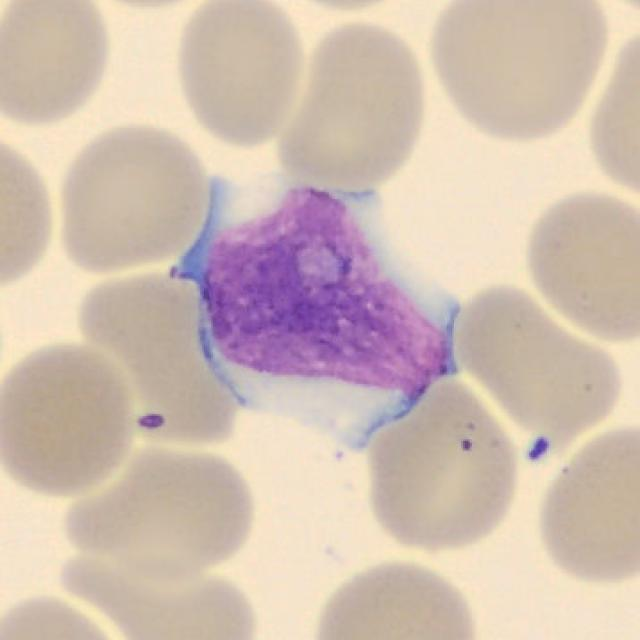Linfocito atipico: (172, 174, 461, 452)
